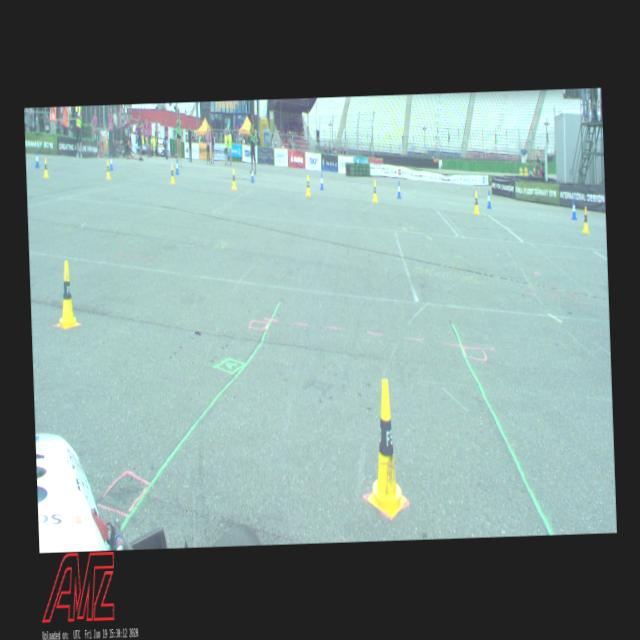blue_cone: (571, 199, 577, 219), (318, 173, 324, 190), (108, 154, 114, 170), (34, 150, 39, 168), (486, 190, 491, 208), (396, 180, 401, 198), (174, 158, 179, 174), (250, 166, 254, 182)
yellow_cone: (364, 378, 406, 518), (54, 260, 79, 328), (581, 206, 589, 233), (472, 190, 479, 214), (230, 168, 237, 190), (42, 158, 49, 178), (305, 174, 311, 197), (372, 180, 378, 203), (170, 164, 176, 184), (104, 160, 110, 180)
